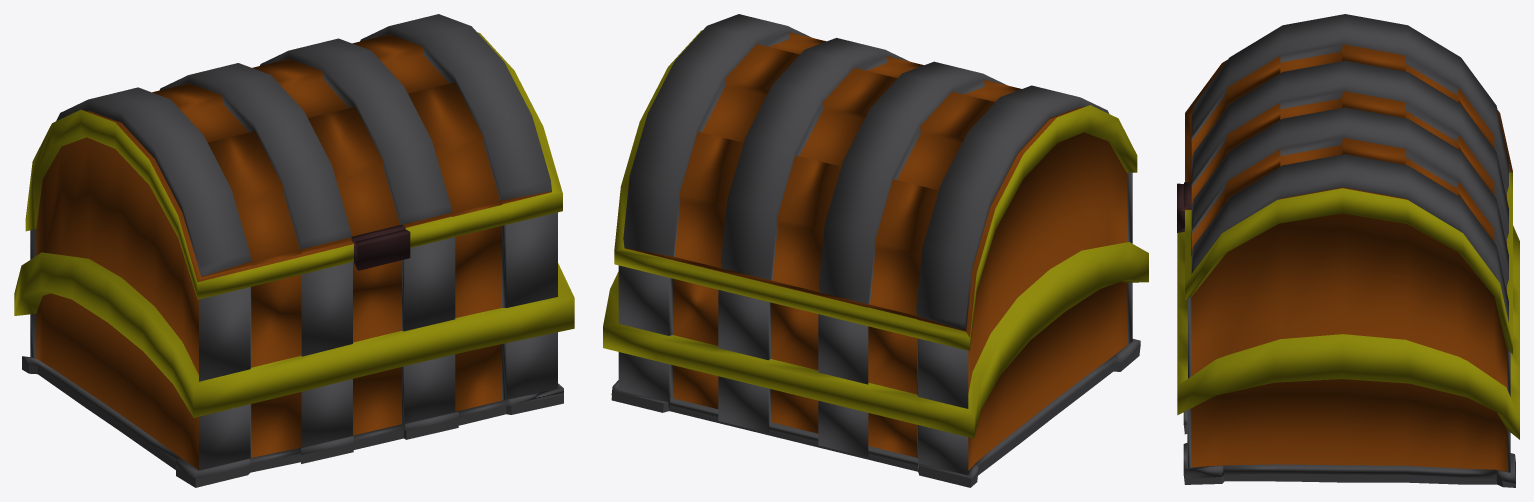
The model's file is сундук.fbx.
3 views of the same model, side by side, from view 1: azimuth 30°, elevation 25°; view 2: azimuth 150°, elevation 25°; view 3: azimuth 270°, elevation 25° (orthographic). The views are drawn at different scales.
Visible parts, largest first — view 1: Цилиндр; view 2: Цилиндр; view 3: Цилиндр.
Part boxes in pixels (left/top/right/bottom): Цилиндр: left=14, top=14, right=574, bottom=487; Цилиндр: left=603, top=14, right=1148, bottom=487; Цилиндр: left=1177, top=14, right=1519, bottom=487.
Size of the model in its own units: 257 by 207 by 209.
